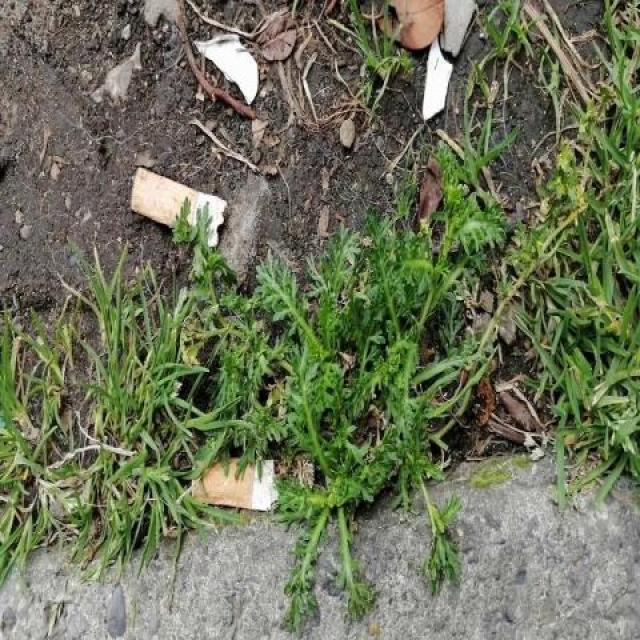non-organic waste: (126, 161, 230, 252), (186, 452, 282, 513)
